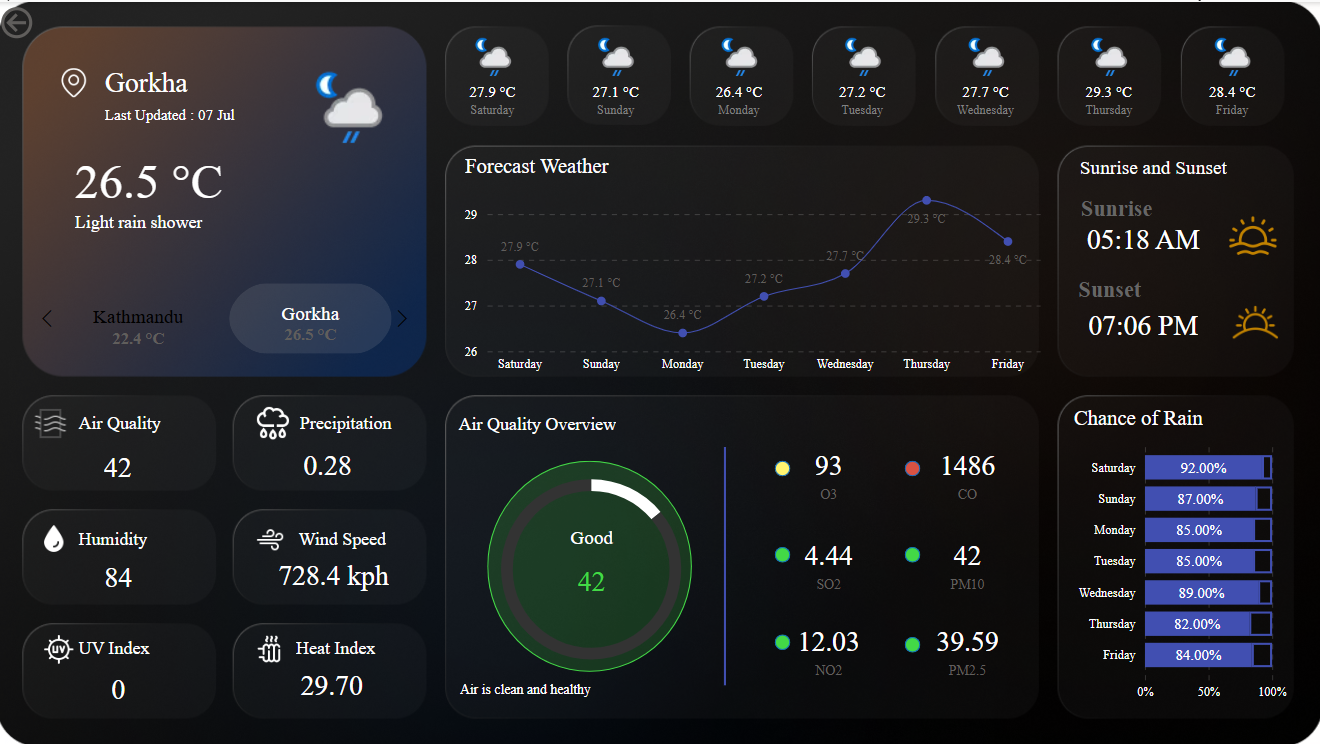

What the dashboard file says about the page in this screenshot:
{"tool":"powerbi","page":{"name":"Page 1","canvas":[1280,720],"ordinal":0},"visuals":[{"type":"shape","box":[473.8,442.5,197.5,203.8],"z":0},{"type":"advancedSlicerVisual","fields":{"Values":["Locations.location.name"]},"box":[33.3,267,373.3,75.6],"z":1000},{"type":"shape","box":[75.6,147.8,211.1,48.9],"z":2000},{"type":"shape","box":[75.6,196.7,297.8,32.2],"z":3000},{"type":"shape","box":[105,58.8,138.8,38.8],"z":4000},{"type":"image","box":[48.8,58.8,53.8,37.5],"z":5000},{"type":"shape","box":[105,97.5,137.5,22.5],"z":6000},{"type":"cardVisual","fields":{"Data":["Min(Current.current.condition.icon)"]},"box":[286.7,50,110,93.3],"z":7000},{"type":"image","box":[35,500,41,37],"z":8000},{"type":"shape","box":[80,507,105,25],"z":9000},{"type":"card","fields":{"Values":["Sum(Current.current.humidity)"]},"box":[74,532,89,47],"z":10000},{"type":"image","box":[243.7,500.7,42.2,37.4],"z":11000},{"type":"shape","box":[292,506.7,105,25.3],"z":12000},{"type":"card","fields":{"Values":["_Measures.Wind_Speed"]},"box":[233,527,186,52],"z":13000},{"type":"image","box":[29,383,47,48],"z":14000},{"type":"shape","box":[80,394,105,25],"z":15000},{"type":"card","fields":{"Values":["Sum(Current.current.air_quality.pm10)"]},"box":[80,431,76,37],"z":16000},{"type":"image","box":[243,383,50,48],"z":17000},{"type":"shape","box":[293,394,105,25],"z":18000},{"type":"card","fields":{"Values":["Sum(Current.current.precip_mm)"]},"box":[287,431,66,34],"z":19000},{"type":"image","box":[41,605,39,40],"z":20000},{"type":"shape","box":[80,612,105,25],"z":21000},{"type":"card","fields":{"Values":["Sum(Current.current.uv)"]},"box":[94,645,48,36],"z":22000},{"type":"actionButton","box":[0,0,100,40],"z":23000},{"type":"image","box":[242,605,44,40],"z":24000},{"type":"shape","box":[290,612,105,25],"z":25000},{"type":"card","fields":{"Values":["Sum(Current.current.heatindex_c)"]},"box":[287,640,74,41],"z":26000},{"type":"advancedSlicerVisual","fields":{"Values":["Forecast_Day.Forecast_Day"]},"box":[418.9,25.6,841.1,104.4],"z":27000},{"type":"lineChart","title":"Forecast Weather","fields":{"Category":["Forecast_Day.Forecast_Day"],"Y":["Sum(Forecast_Day.forecast.forecastday.day.avgtemp_c)"]},"box":[447.1,147.1,565.7,217.1],"z":28000},{"type":"shape","box":[1046.2,147.5,151.2,25],"z":29000},{"type":"card","fields":{"Values":["Min(Forecast_Day.Sunrise_Date)"]},"box":[1045,213.8,125,31.2],"z":30000},{"type":"card","fields":{"Values":["Min(Forecast_Day.Sunset_Date)"]},"box":[1045,296.2,125,30],"z":31000},{"type":"shape","box":[1047.5,187.5,125,25],"z":32000},{"type":"shape","box":[1044.5,265.5,125,25],"z":33000},{"type":"image","box":[1184.5,197.3,56.4,55.5],"z":34000},{"type":"image","box":[1180,274.5,70.9,68.2],"z":35000},{"type":"hundredPercentStackedBarChart","title":"Chance of Rain","fields":{"Y":["Sum(Forecast_Day.forecast.forecastday.day.daily_chance_of_rain)","_Measures.Left_Value_Rain"],"Category":["Forecast_Day.Forecast_Day"]},"box":[1035.7,391.4,215.7,290],"z":36000},{"type":"card","fields":{"Values":["Sum(Current.current.air_quality.co)"]},"box":[892.5,420,90,70],"z":37000},{"type":"shape","box":[446.7,395.6,166.7,24.4],"z":38000},{"type":"card","fields":{"Values":["Sum(Current.current.air_quality.pm10)"]},"box":[892.5,506.2,90,70],"z":39000},{"type":"card","fields":{"Values":["Sum(Current.current.air_quality.pm2_5)"]},"box":[892.5,590,90,70],"z":40000},{"type":"card","fields":{"Values":["Sum(Current.current.air_quality.o3)"]},"box":[758.8,420,90,70],"z":41000},{"type":"card","fields":{"Values":["Sum(Current.current.air_quality.so2)"]},"box":[758.8,506.2,90,70],"z":42000},{"type":"card","fields":{"Values":["Sum(Current.current.air_quality.no2)"]},"box":[758.8,590,90,70],"z":43000},{"type":"shape","box":[877.5,526.2,15,15],"z":44000},{"type":"shape","box":[877.5,442.5,15,15],"z":45000},{"type":"shape","box":[877.5,612.5,15,15],"z":46000},{"type":"shape","box":[751.2,442.5,15,15],"z":47000},{"type":"shape","box":[751.2,526.2,15,15],"z":48000},{"type":"shape","box":[751.2,610,15,15],"z":49000},{"type":"shape","box":[628.8,430,150,230],"z":50000},{"type":"card","fields":{"Values":["Sum(Current.current.air_quality.pm10)"]},"box":[518.8,506.2,112.5,83.8],"z":51000},{"type":"donutChart","fields":{"Y":["Sum(Current.current.air_quality.pm10)","_Measures.Left_value_PM10"]},"box":[461.2,425,227.5,246.2],"z":52000},{"type":"shape","box":[447.8,651.1,255.6,24.4],"z":53000}]}

Visuals, with their boxes in screenshot pixels (x1, y1, x2, y2), scaled from the page's 1280x720 canvas onto the 1320x744 screenshot:
shape: 489,457,692,668
advancedSlicerVisual - Locations.location.name: 34,276,419,354
shape: 78,153,296,203
shape: 78,203,385,237
shape: 108,61,251,101
image: 50,61,106,100
shape: 108,101,250,124
cardVisual - Min(Current.current.condition.icon): 296,52,409,148
image: 36,517,78,555
shape: 82,524,191,550
card - Sum(Current.current.humidity): 76,550,168,598
image: 251,517,295,556
shape: 301,524,409,550
card - _Measures.Wind_Speed: 240,545,432,598
image: 30,396,78,445
shape: 82,407,191,433
card - Sum(Current.current.air_quality.pm10): 82,445,161,484
image: 251,396,302,445
shape: 302,407,410,433
card - Sum(Current.current.precip_mm): 296,445,364,481
image: 42,625,82,667
shape: 82,632,191,658
card - Sum(Current.current.uv): 97,667,146,704
actionButton: 0,0,103,41
image: 250,625,295,667
shape: 299,632,407,658
card - Sum(Current.current.heatindex_c): 296,661,372,704
advancedSlicerVisual - Forecast_Day.Forecast_Day: 432,26,1299,134
"Forecast Weather" lineChart: 461,152,1044,376
shape: 1079,152,1235,178
card - Min(Forecast_Day.Sunrise_Date): 1078,221,1207,253
card - Min(Forecast_Day.Sunset_Date): 1078,306,1207,337
shape: 1080,194,1209,220
shape: 1077,274,1206,300
image: 1222,204,1280,261
image: 1217,284,1290,354
"Chance of Rain" hundredPercentStackedBarChart: 1068,404,1291,704
card - Sum(Current.current.air_quality.co): 920,434,1013,506
shape: 461,409,633,434
card - Sum(Current.current.air_quality.pm10): 920,523,1013,595
card - Sum(Current.current.air_quality.pm2_5): 920,610,1013,682
card - Sum(Current.current.air_quality.o3): 783,434,875,506
card - Sum(Current.current.air_quality.so2): 783,523,875,595
card - Sum(Current.current.air_quality.no2): 783,610,875,682
shape: 905,544,920,559
shape: 905,457,920,473
shape: 905,633,920,648
shape: 775,457,790,473
shape: 775,544,790,559
shape: 775,630,790,646
shape: 648,444,803,682
card - Sum(Current.current.air_quality.pm10): 535,523,651,610
donutChart - Sum(Current.current.air_quality.pm10) x _Measures.Left_value_PM10: 476,439,710,694
shape: 462,673,725,698
